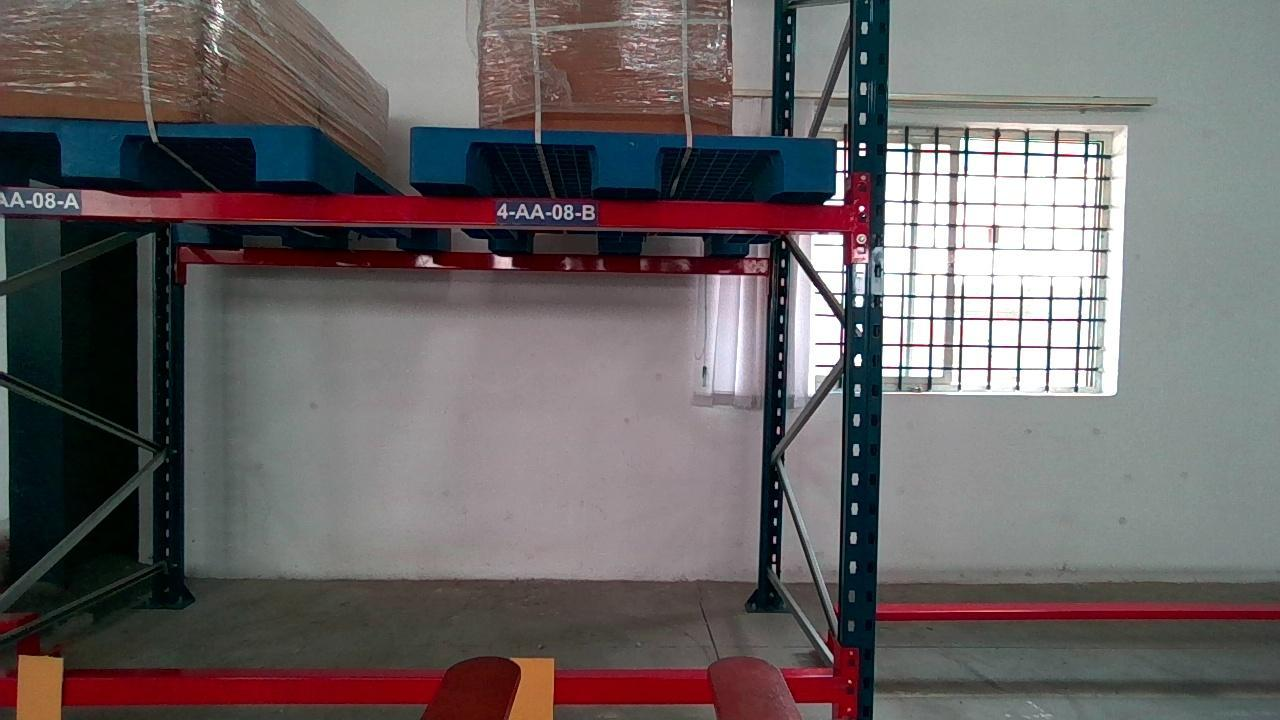h_rack: (13, 186, 849, 236), (4, 674, 836, 713)
orange_strip: (13, 657, 64, 719)
small_pallet: (409, 125, 835, 198)
